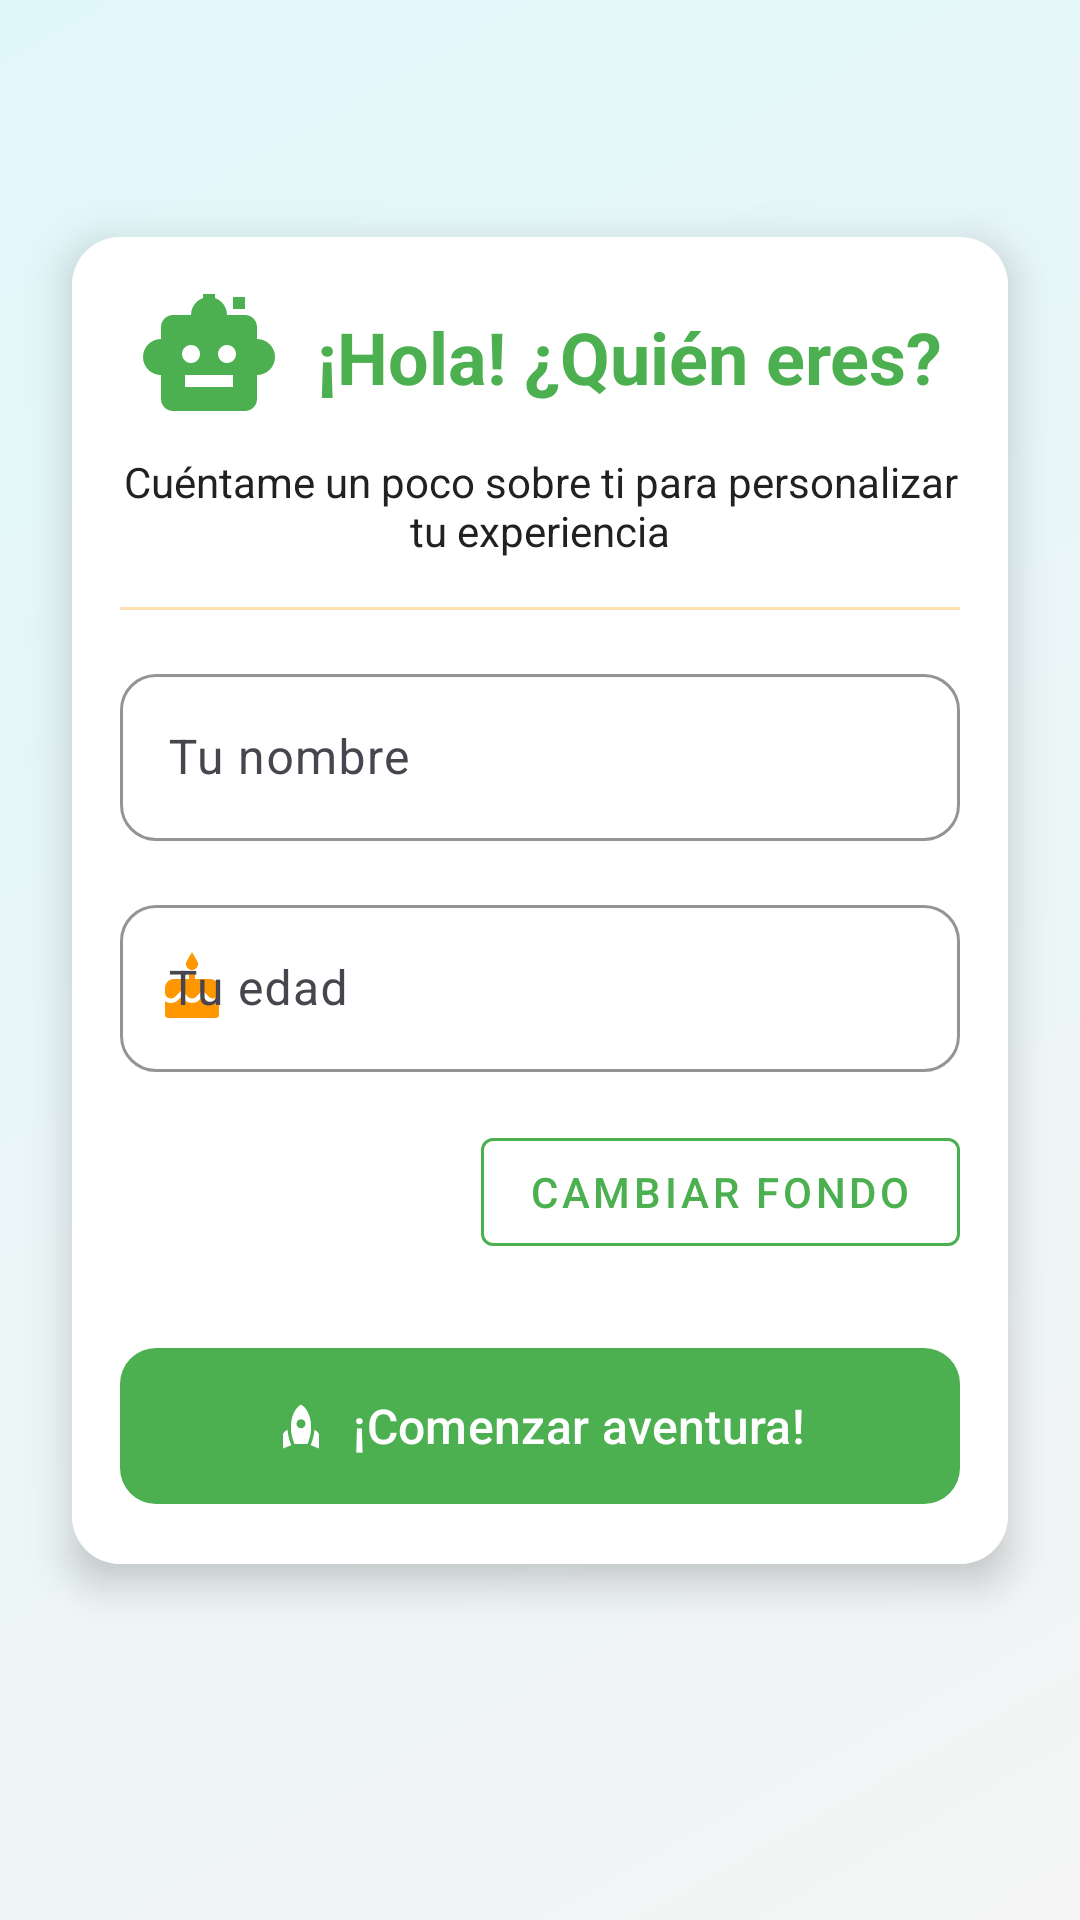

Named icons in this screenshot (1080w x 1920h) and their centers, (x=x, y=y):
robot teacher: (x=209, y=352)
